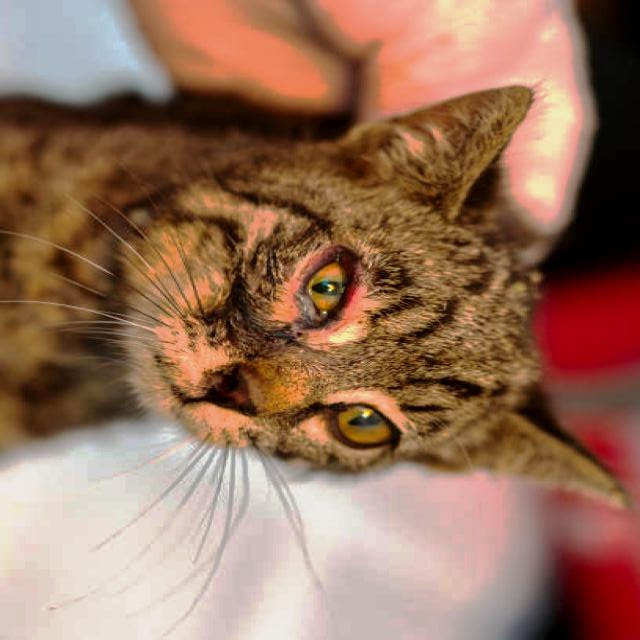eye_infection: (290, 243, 368, 333)
